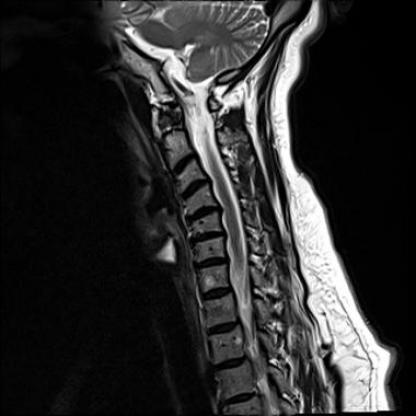Disc Protrusionrotation: (186, 228, 227, 247), (177, 179, 212, 199), (184, 206, 221, 223), (192, 255, 228, 272)
